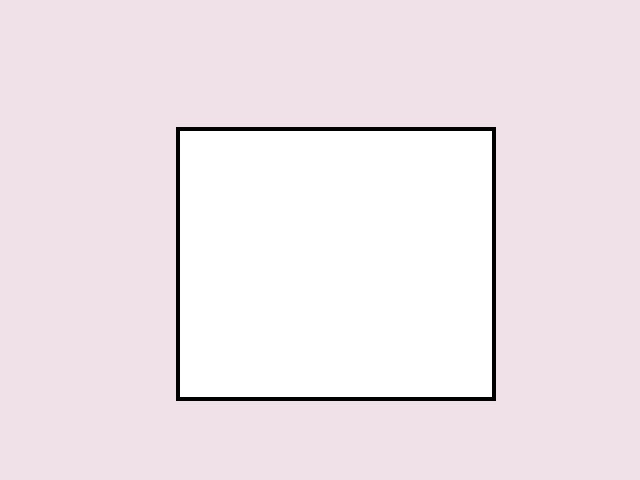clock: (176, 127, 495, 400)
